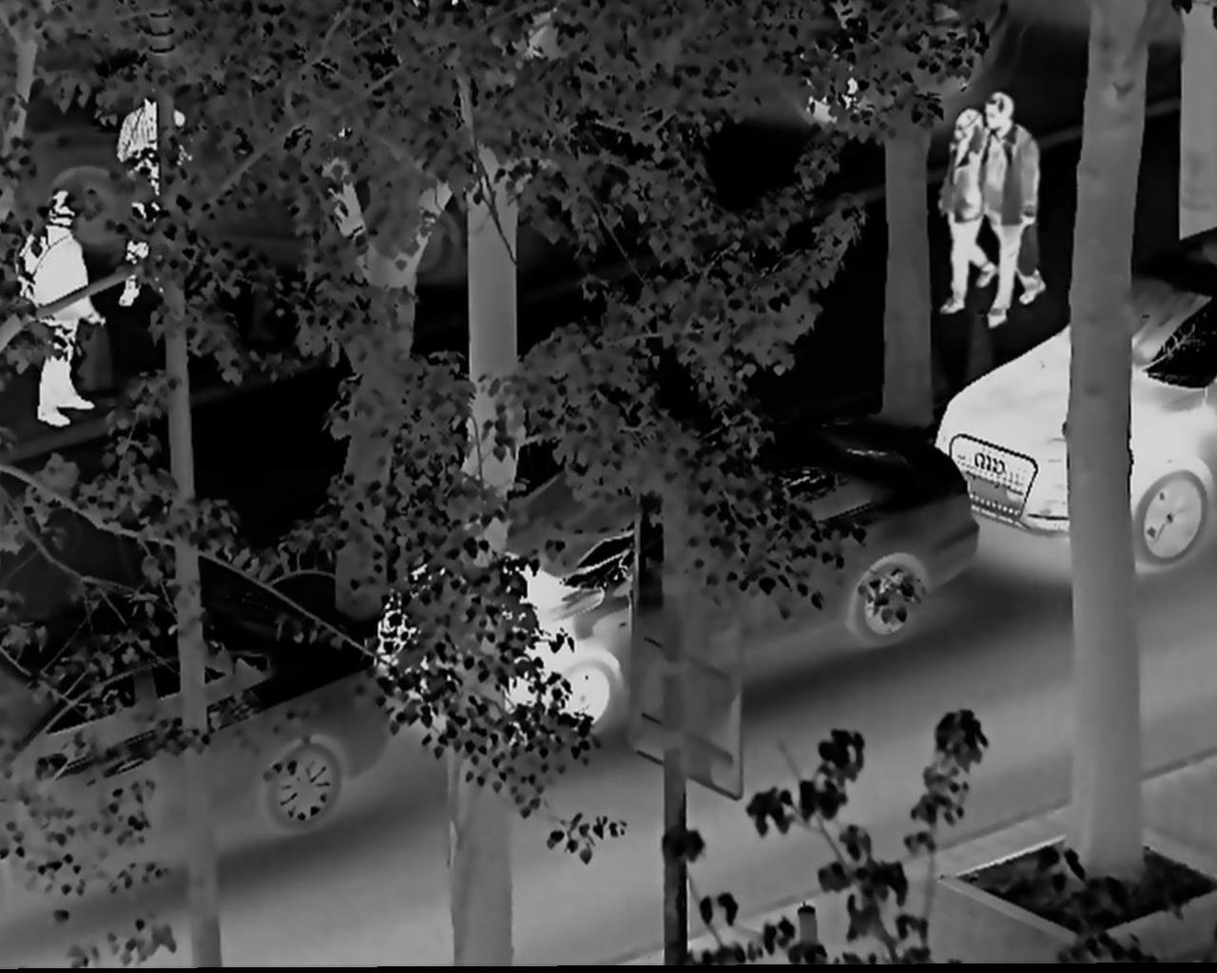person: (107, 88, 205, 315), (24, 184, 100, 436), (975, 86, 1052, 331), (935, 111, 993, 308)
